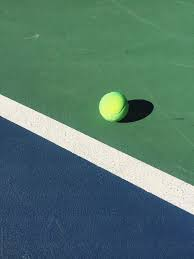tennis_ball: (98, 91, 128, 122)
